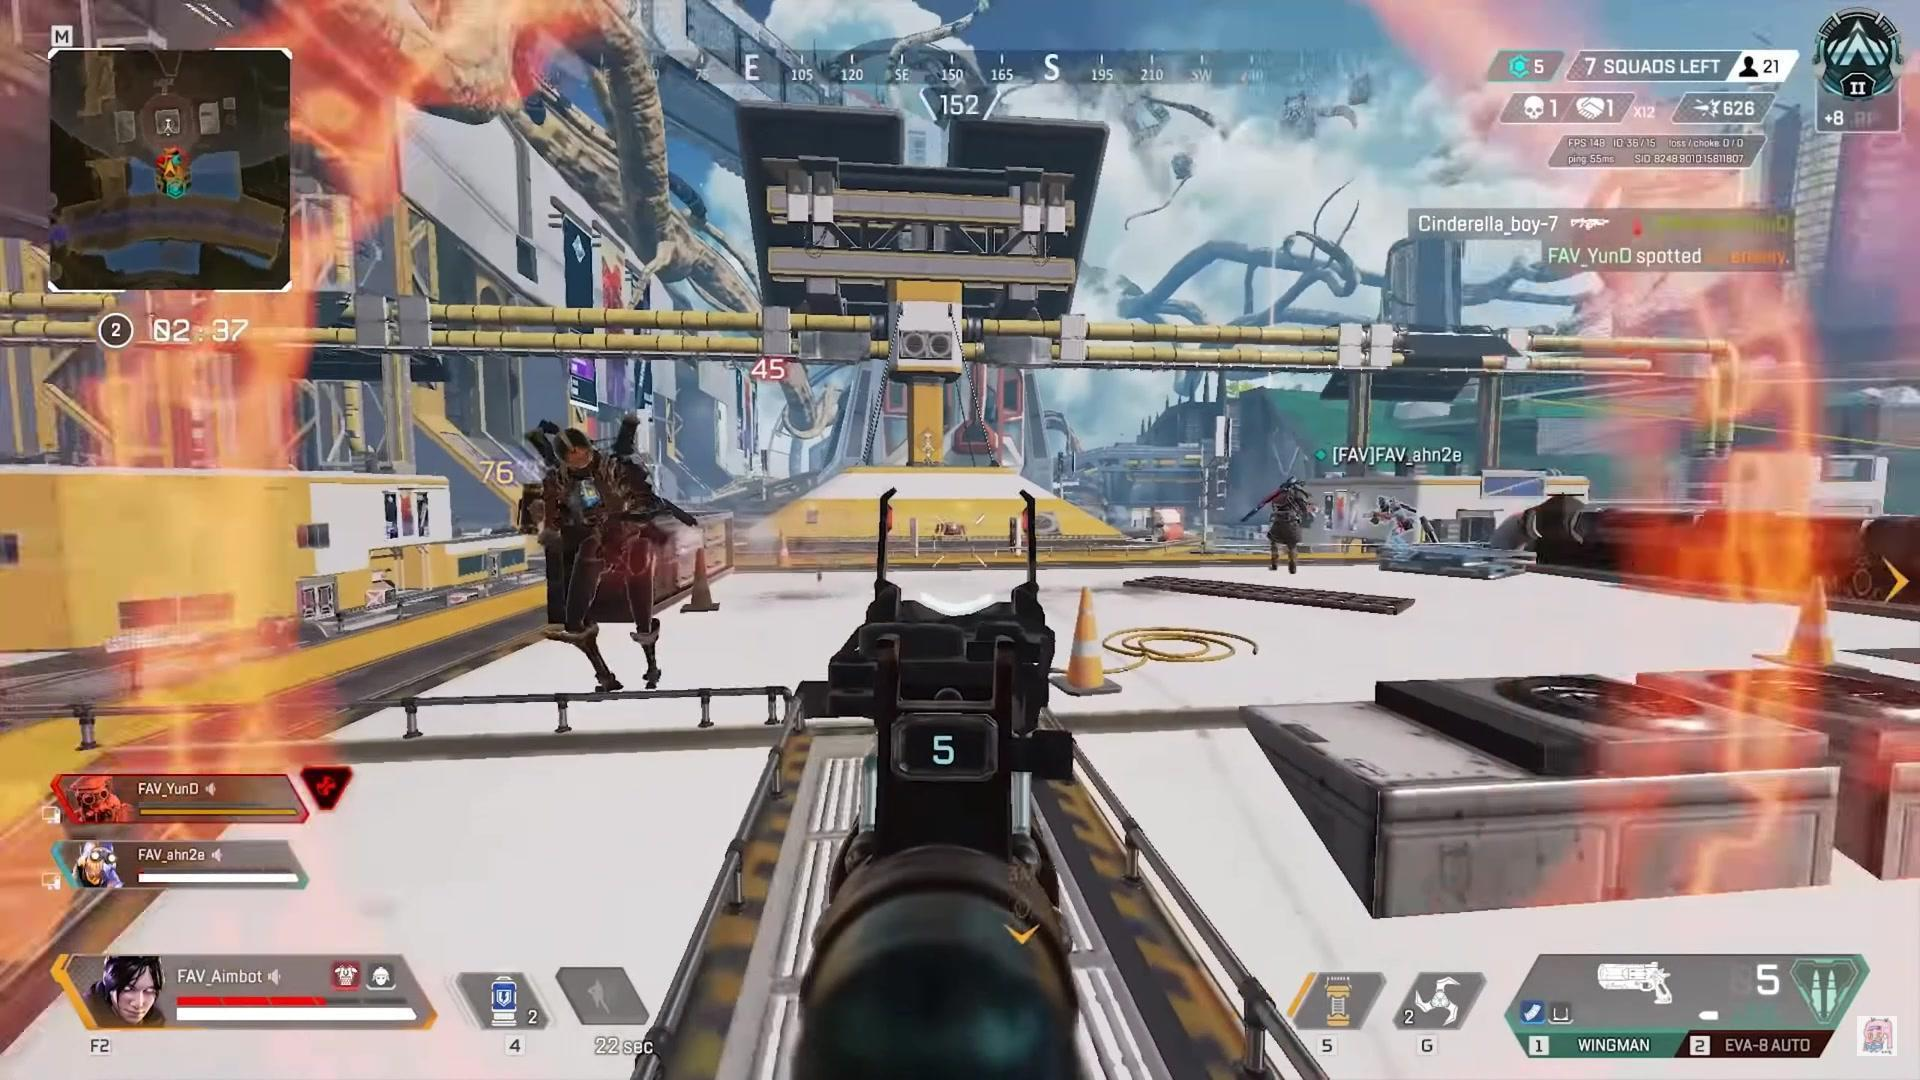avatar: (528, 420, 664, 697), (1265, 477, 1314, 576)
